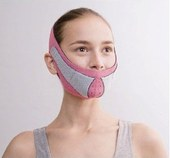face: (57, 18, 115, 97)
